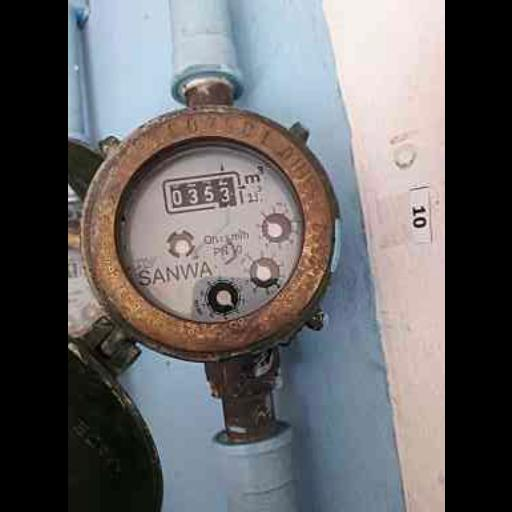0: (168, 184, 186, 209)
3: (214, 176, 237, 208), (183, 181, 202, 207)
5: (198, 179, 218, 205)
border_water_meter_number: (161, 170, 243, 215)
